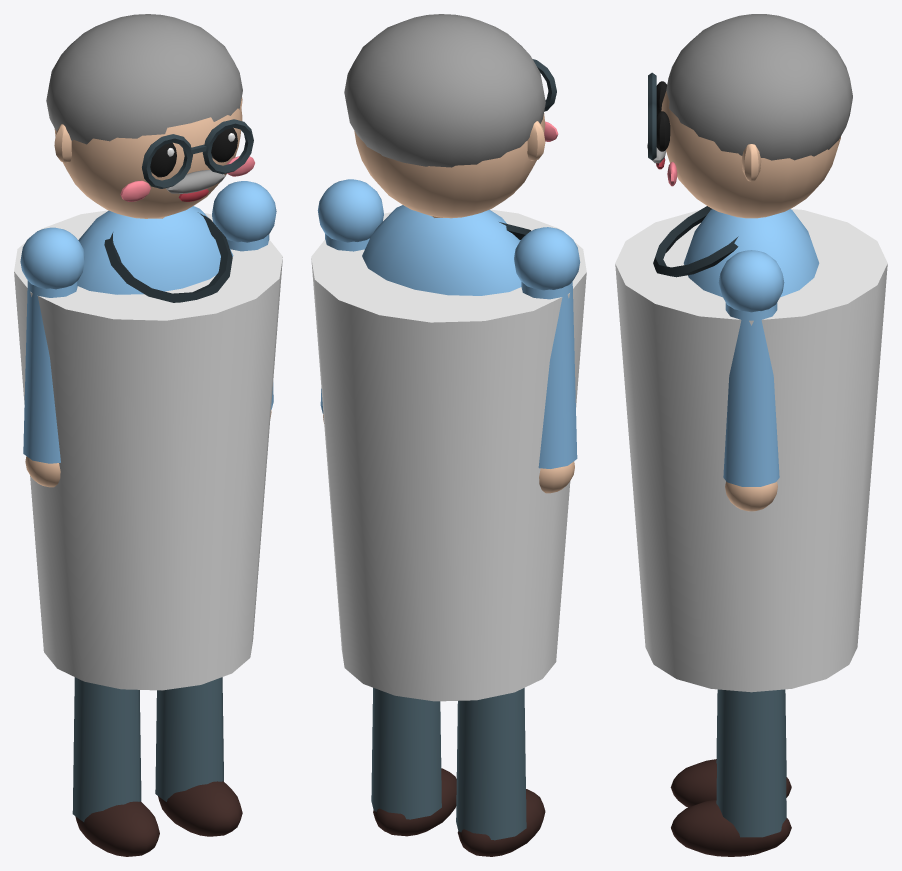
Rendered from interiors_doctor.glb.
The picture shows the model from 3 angles, left to right: view 1: azimuth 30°, elevation 25°; view 2: azimuth 150°, elevation 25°; view 3: azimuth 270°, elevation 25°; orthographic projection. The views are drawn at different scales.
Parts seen in each view (by area): view 1: Body.004, Leg_R.004, Leg_L.004, Arm_R.004, Arm_L.004, Acc.003; view 2: Body.004, Leg_R.004, Leg_L.004, Arm_R.004, Arm_L.004; view 3: Body.004, Leg_L.004, Arm_L.004, Leg_R.004, Acc.003.
Boxes of the visible parts, box(x1,y1,x2,y2) form: Body.004: box(14, 14, 282, 690); Leg_R.004: box(72, 677, 159, 856); Leg_L.004: box(155, 677, 242, 836); Arm_R.004: box(20, 227, 84, 487); Arm_L.004: box(212, 181, 276, 418); Acc.003: box(104, 212, 232, 302); Body.004: box(311, 14, 586, 701); Leg_R.004: box(456, 688, 545, 856); Leg_L.004: box(371, 687, 456, 836); Arm_R.004: box(514, 227, 580, 493); Arm_L.004: box(317, 179, 383, 423); Body.004: box(615, 14, 887, 692); Leg_L.004: box(671, 689, 791, 856); Arm_L.004: box(718, 250, 784, 511); Leg_R.004: box(670, 689, 791, 807); Acc.003: box(653, 206, 738, 277).
Size of the model in its own units: 0.57 by 1.76 by 0.54.
